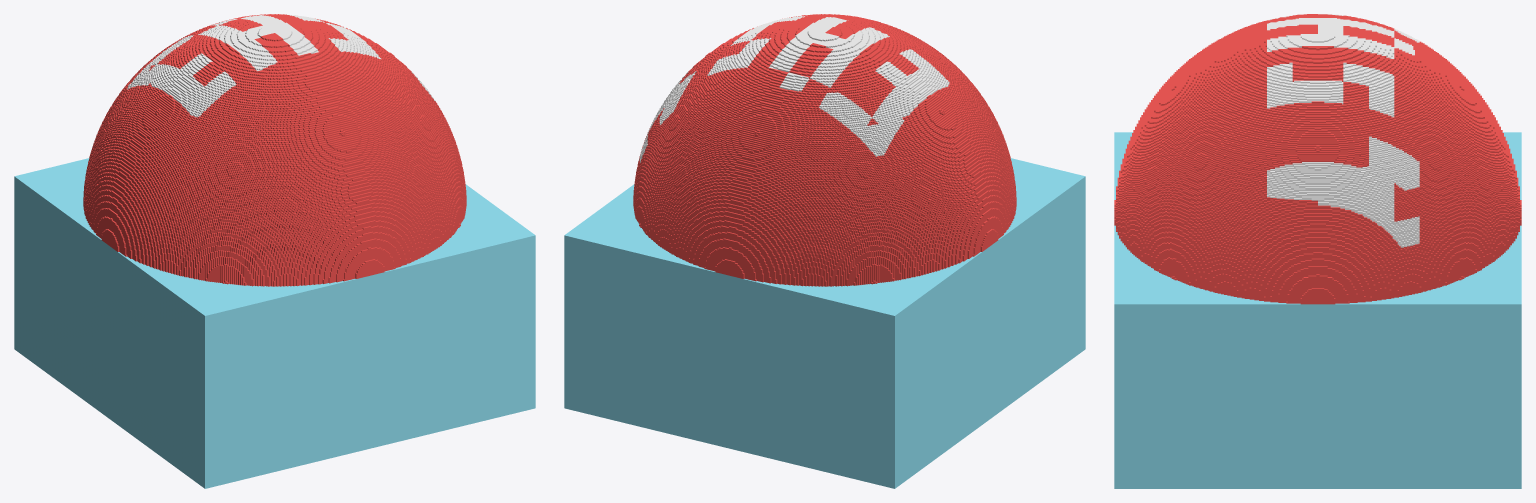
The model's file is Project2Cutsom6.fbx.
3 views of the same model, side by side, from view 1: azimuth 30°, elevation 25°; view 2: azimuth 150°, elevation 25°; view 3: azimuth 270°, elevation 25° (orthographic). The views are drawn at different scales.
Parts seen in each view (by area): view 1: default; view 2: default; view 3: default.
Boxes of the visible parts, left/top/right/bottom form: default: left=14, top=14, right=535, bottom=488; default: left=564, top=14, right=1085, bottom=488; default: left=1114, top=14, right=1521, bottom=488.
Size of the model in its own units: 64 by 64 by 64.
